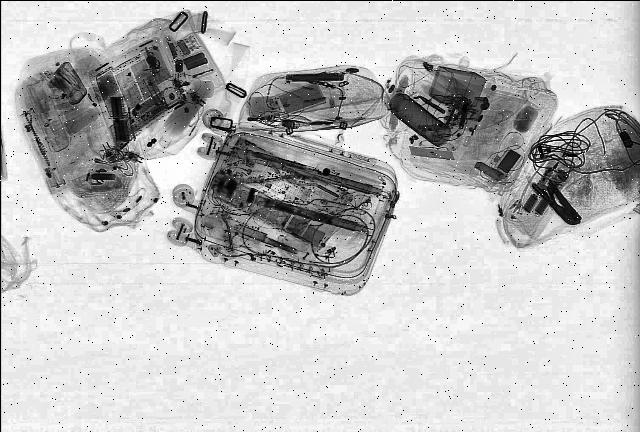Pliers: (529, 178, 589, 226)
